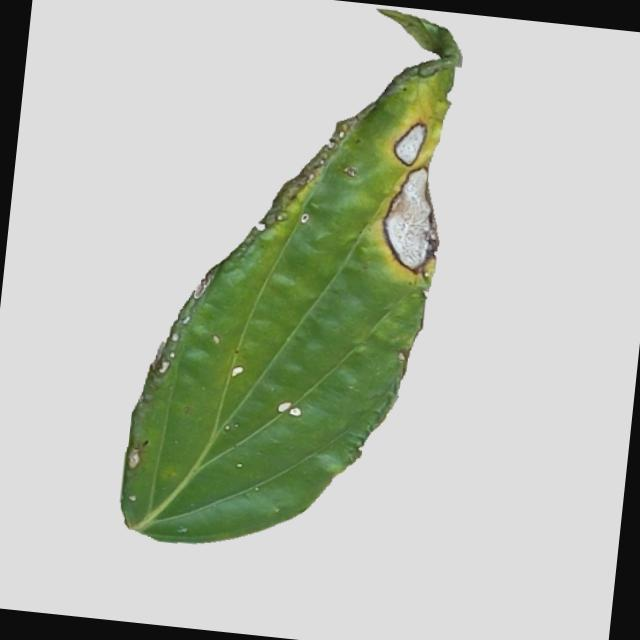leaf-blight: (87, 0, 472, 562)
